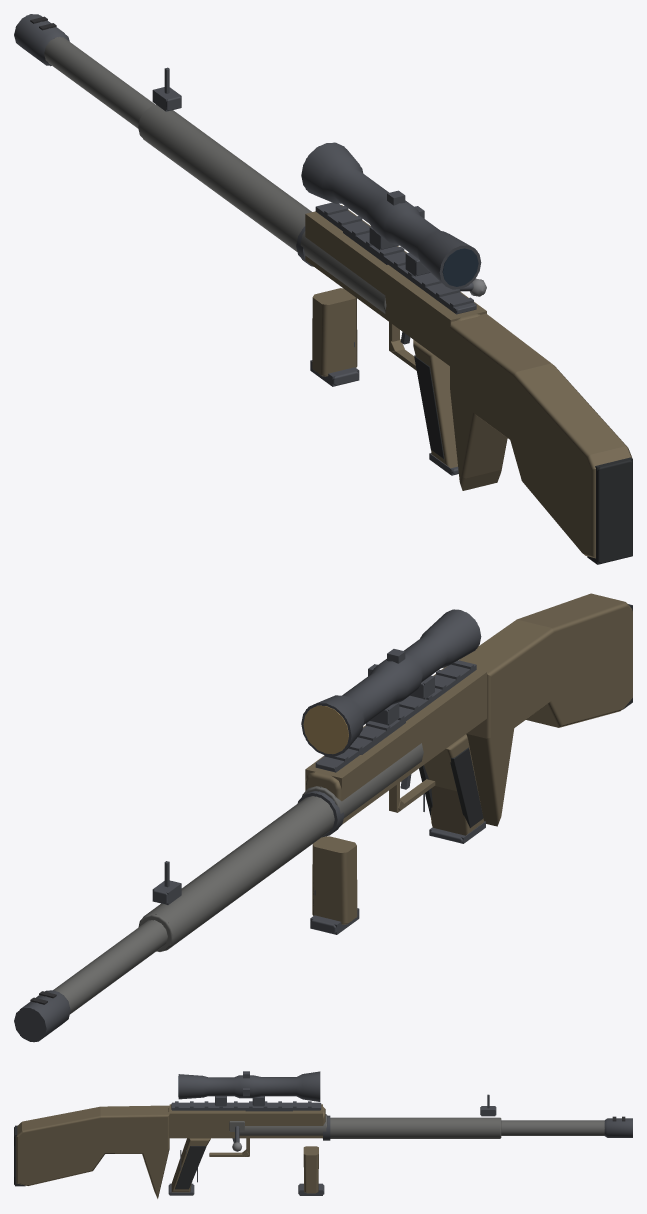
File: g_slugger.glb
The picture shows the model from 3 angles, top to bottom: view 1: azimuth 30°, elevation 25°; view 2: azimuth 150°, elevation 25°; view 3: azimuth 270°, elevation 25°; orthographic projection. The views are drawn at different scales.
Visible parts, largest first — view 1: L0, L1; view 2: L0, L1; view 3: L0, L1.
Part boxes in pixels (x1,y1,x2,y2): L0: [14, 14, 632, 563]; L1: [15, 15, 632, 564]; L0: [14, 593, 632, 1041]; L1: [15, 604, 632, 1042]; L0: [14, 1071, 632, 1198]; L1: [15, 1071, 632, 1195].
Bounding box in the file's own units: 0.1095 × 0.2285 × 1.05.
